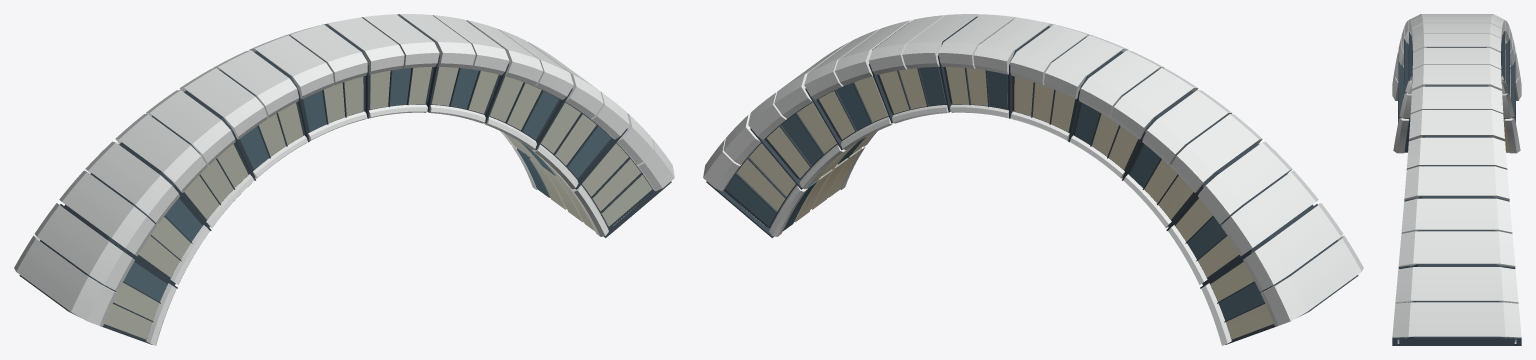
The model's file is ring-crown-2127.glb.
3 renders of one model, left to right at view 1: azimuth 30°, elevation 25°; view 2: azimuth 150°, elevation 25°; view 3: azimuth 270°, elevation 25°, orthographic. The views are drawn at different scales.
Parts seen in each view (by area): view 1: crown_ceramic, crown_glazing, crown_graphite, crown_shadow_glazing; view 2: crown_ceramic, crown_glazing, crown_graphite, crown_shadow_glazing; view 3: crown_ceramic, crown_graphite, crown_glazing, crown_shadow_glazing.
Part boxes in pixels (left/top/right/bottom): crown_ceramic: left=14, top=14, right=674, bottom=345; crown_glazing: left=104, top=67, right=652, bottom=339; crown_graphite: left=19, top=16, right=671, bottom=344; crown_shadow_glazing: left=123, top=68, right=610, bottom=301; crown_ceramic: left=703, top=14, right=1363, bottom=345; crown_glazing: left=737, top=67, right=1273, bottom=339; crown_graphite: left=706, top=16, right=1358, bottom=344; crown_shadow_glazing: left=725, top=67, right=1264, bottom=320; crown_ceramic: left=1392, top=14, right=1521, bottom=343; crown_graphite: left=1392, top=31, right=1521, bottom=345; crown_glazing: left=1398, top=45, right=1510, bottom=342; crown_shadow_glazing: left=1403, top=45, right=1515, bottom=342.
Size of the model in its own units: 181 by 65.87 by 38.23.
